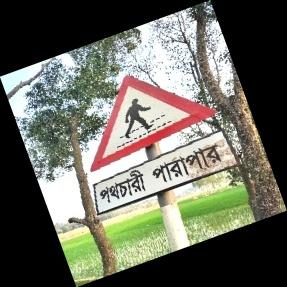Pedestrian-crossing: (90, 75, 234, 215)
